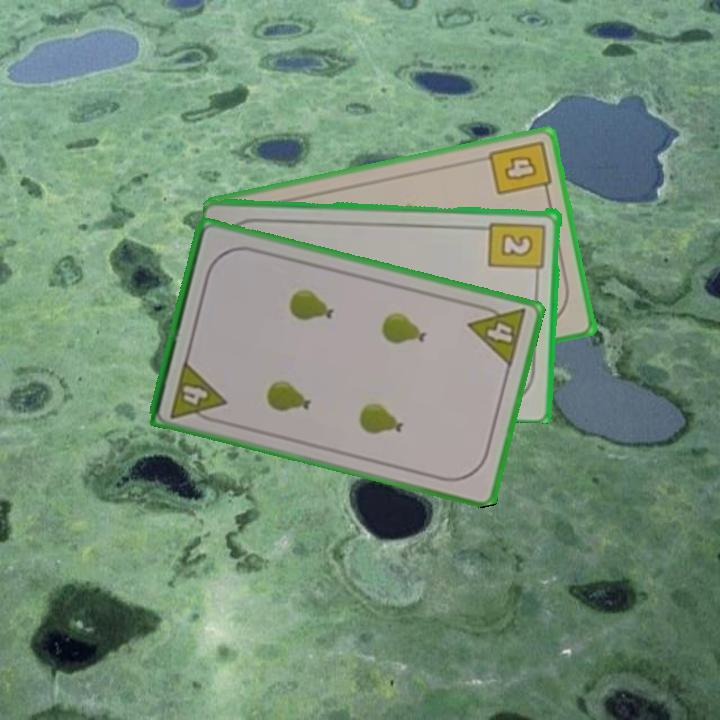2b: (486, 218, 549, 281)
4b: (485, 136, 554, 200)
4p: (465, 299, 530, 370), (166, 356, 229, 426)
